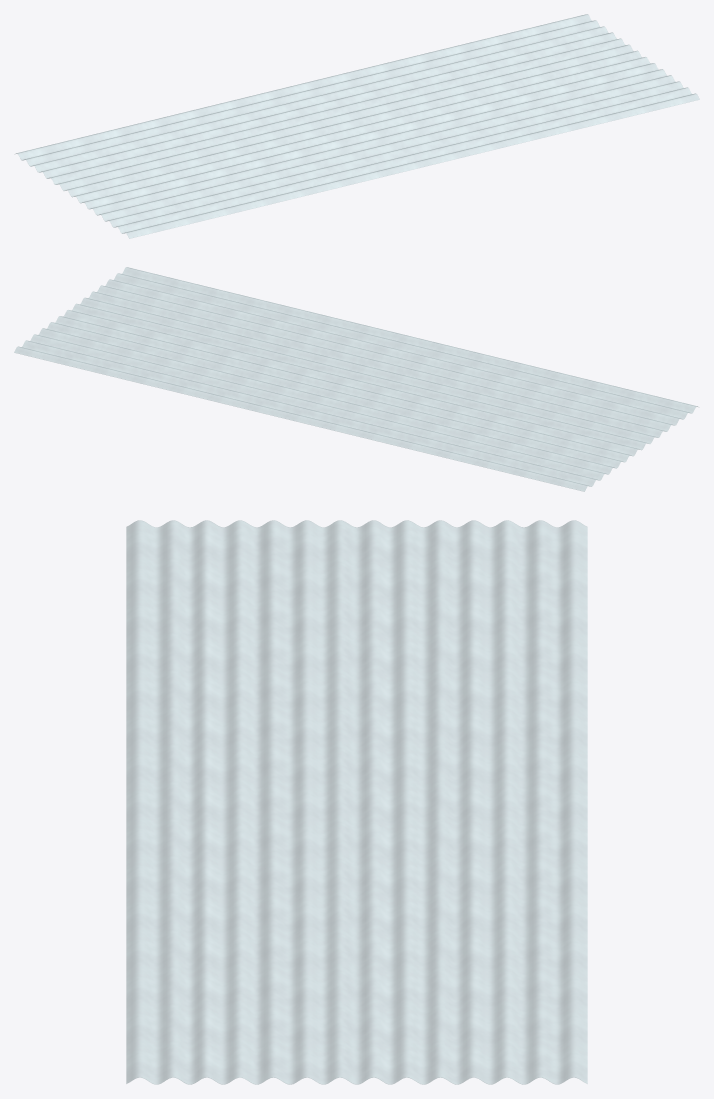
File: COB-MTL-004.glb
3 renders of one model, top to bottom at view 1: azimuth 30°, elevation 25°; view 2: azimuth 150°, elevation 25°; view 3: azimuth 270°, elevation 25°, orthographic. The views are drawn at different scales.
Parts seen in each view (by area): view 1: COB-MTL-004_chapa; view 2: COB-MTL-004_chapa; view 3: COB-MTL-004_chapa.
Boxes of the visible parts, x1,y1,x2,y2 form: COB-MTL-004_chapa: (16,14,699,238); COB-MTL-004_chapa: (14,267,697,491); COB-MTL-004_chapa: (126,520,587,1084).
Bounding box in the file's own units: 3 × 0.0192 × 1.05.
Materials: 1 (1 with a texture image).
